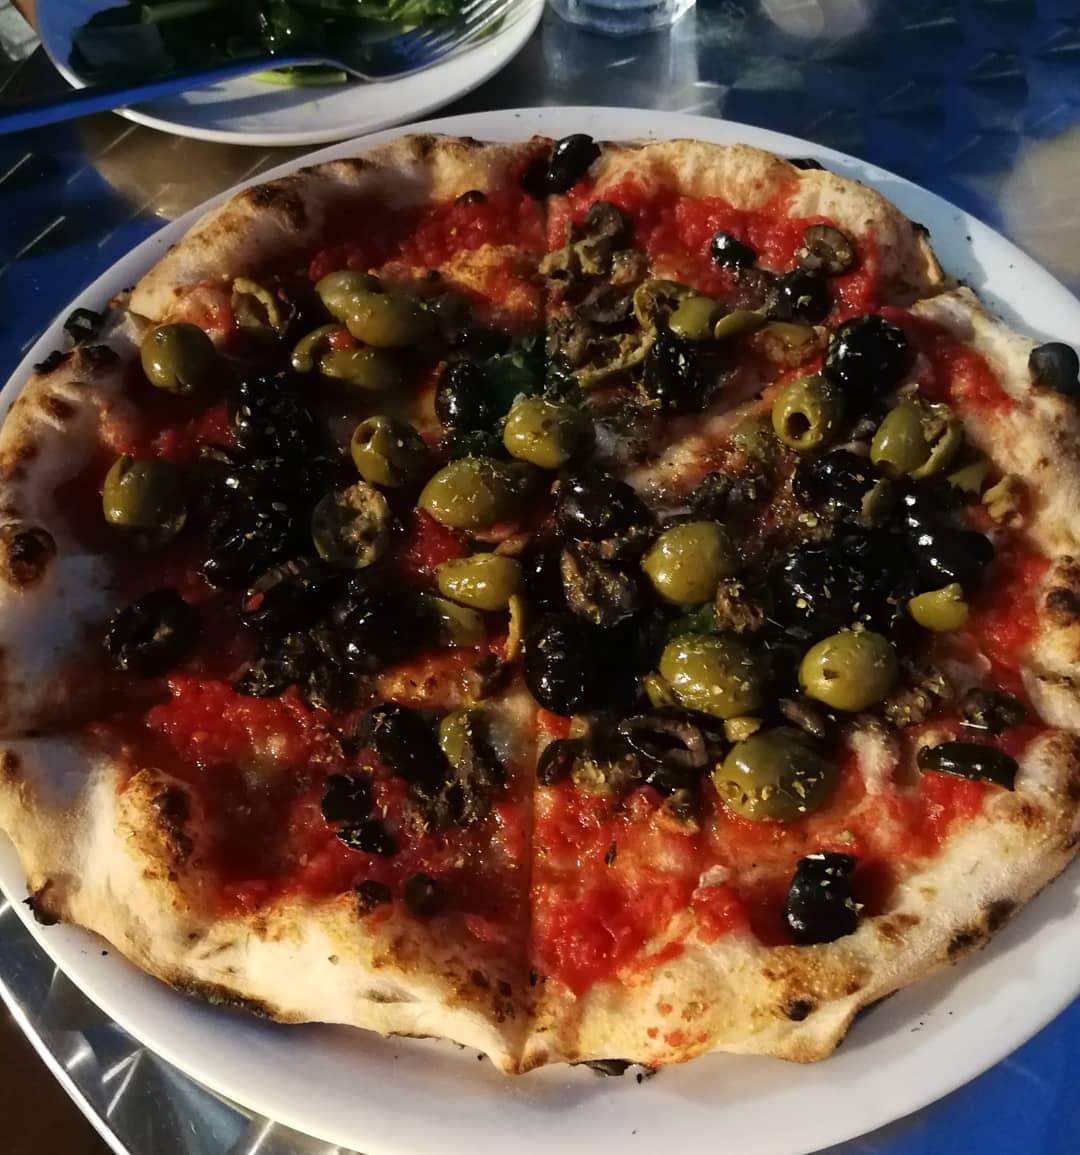Olives: (814, 302, 929, 394), (651, 630, 767, 708), (791, 628, 901, 704), (568, 721, 705, 782), (711, 731, 811, 810), (343, 588, 431, 670), (138, 318, 223, 402), (857, 407, 947, 482), (538, 640, 623, 716), (791, 856, 873, 932), (373, 705, 446, 790), (502, 534, 578, 614), (425, 451, 503, 524), (225, 373, 303, 443), (118, 596, 190, 668), (288, 338, 388, 390), (495, 391, 567, 462), (926, 738, 1023, 790), (651, 528, 725, 596), (565, 550, 637, 616), (433, 358, 499, 428), (545, 471, 623, 530), (880, 536, 980, 582), (178, 446, 242, 516), (95, 456, 155, 530), (694, 222, 767, 282), (765, 370, 827, 440), (798, 220, 867, 280), (560, 273, 627, 334), (425, 555, 520, 598), (215, 528, 279, 590), (348, 410, 399, 484), (258, 453, 329, 504), (765, 531, 823, 594), (243, 653, 303, 709), (770, 268, 831, 324), (526, 143, 601, 188), (295, 531, 353, 588), (651, 348, 710, 404), (308, 262, 363, 318), (840, 545, 883, 618), (345, 290, 403, 344), (251, 596, 314, 640), (485, 328, 535, 382), (666, 300, 725, 340), (885, 493, 945, 532), (916, 593, 963, 628)
Pizza: (0, 136, 1080, 1072)
